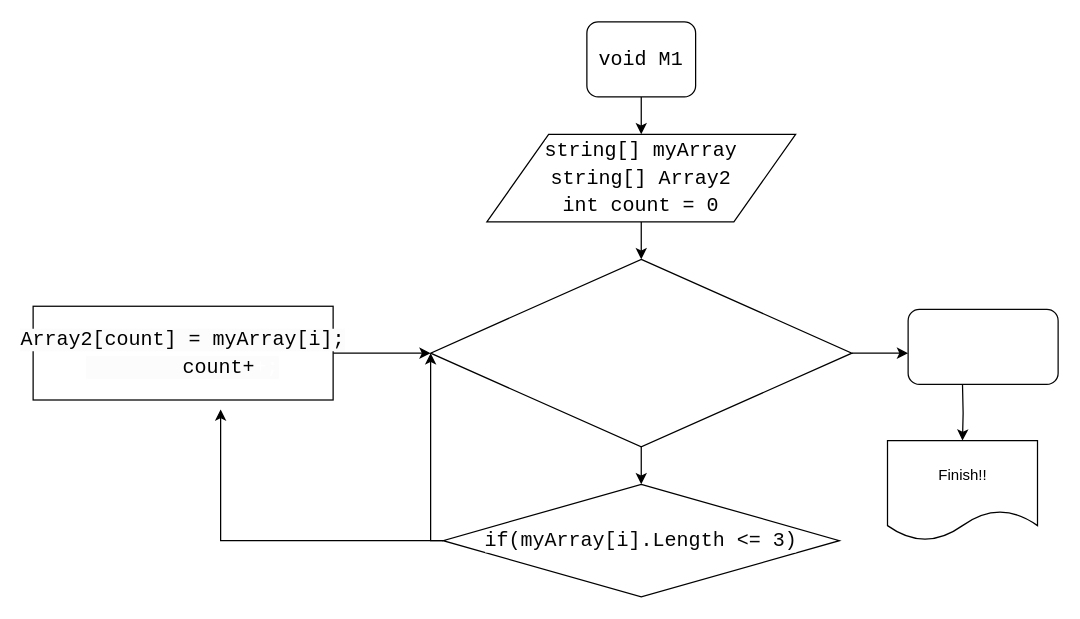
The diagram is 1080 pixels wide and 619 high, and some of its shapes have lost their labels. Here are the shapes that lost their labels. From the top down, the centre of each, then its label:
At [640,352]: "for (int i = 0; i < myArray.Length; i++)".
At [982,346]: "void M2".
